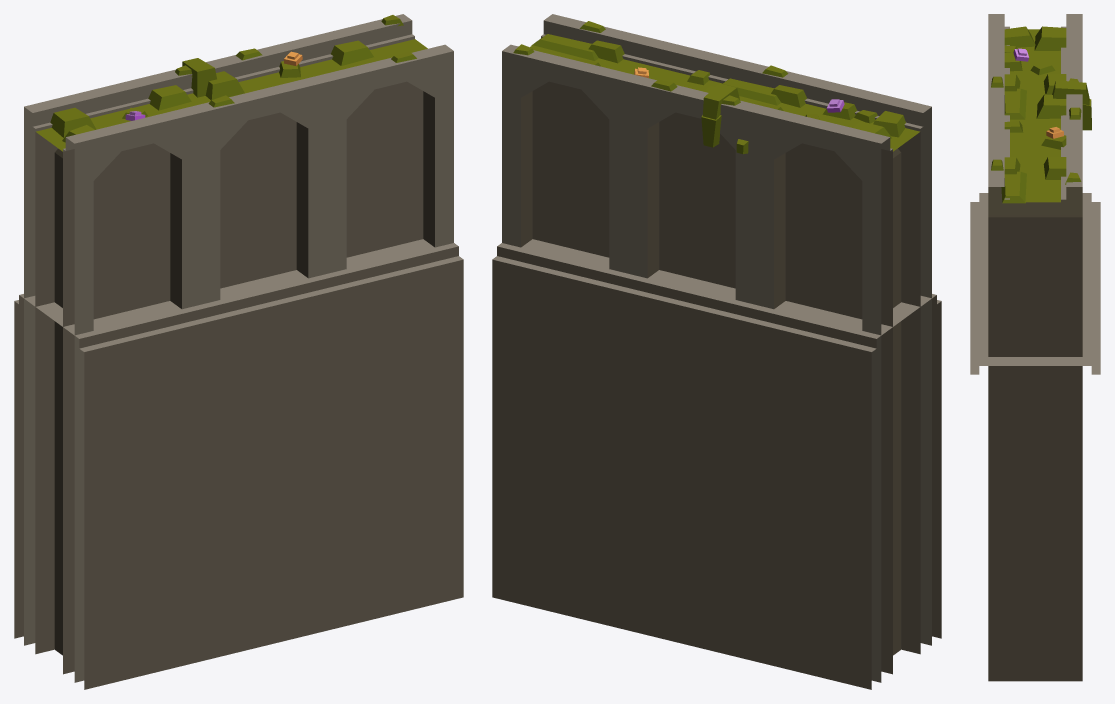
File: SF_Bld_Elven_Castle_Wall_03.fbx
3 views of the same model, side by side, from view 1: azimuth 30°, elevation 25°; view 2: azimuth 150°, elevation 25°; view 3: azimuth 270°, elevation 25° (orthographic). The views are drawn at different scales.
Parts seen in each view (by area): view 1: SF_Bld_Elven_Castle_Wall_03; view 2: SF_Bld_Elven_Castle_Wall_03; view 3: SF_Bld_Elven_Castle_Wall_03.
Boxes of the visible parts, box(x1,y1,x2,y2) form: SF_Bld_Elven_Castle_Wall_03: box(14, 14, 463, 689); SF_Bld_Elven_Castle_Wall_03: box(492, 14, 941, 689); SF_Bld_Elven_Castle_Wall_03: box(970, 14, 1100, 681).
Bounding box in the file's own units: 15.04 × 20.61 × 4.79.
